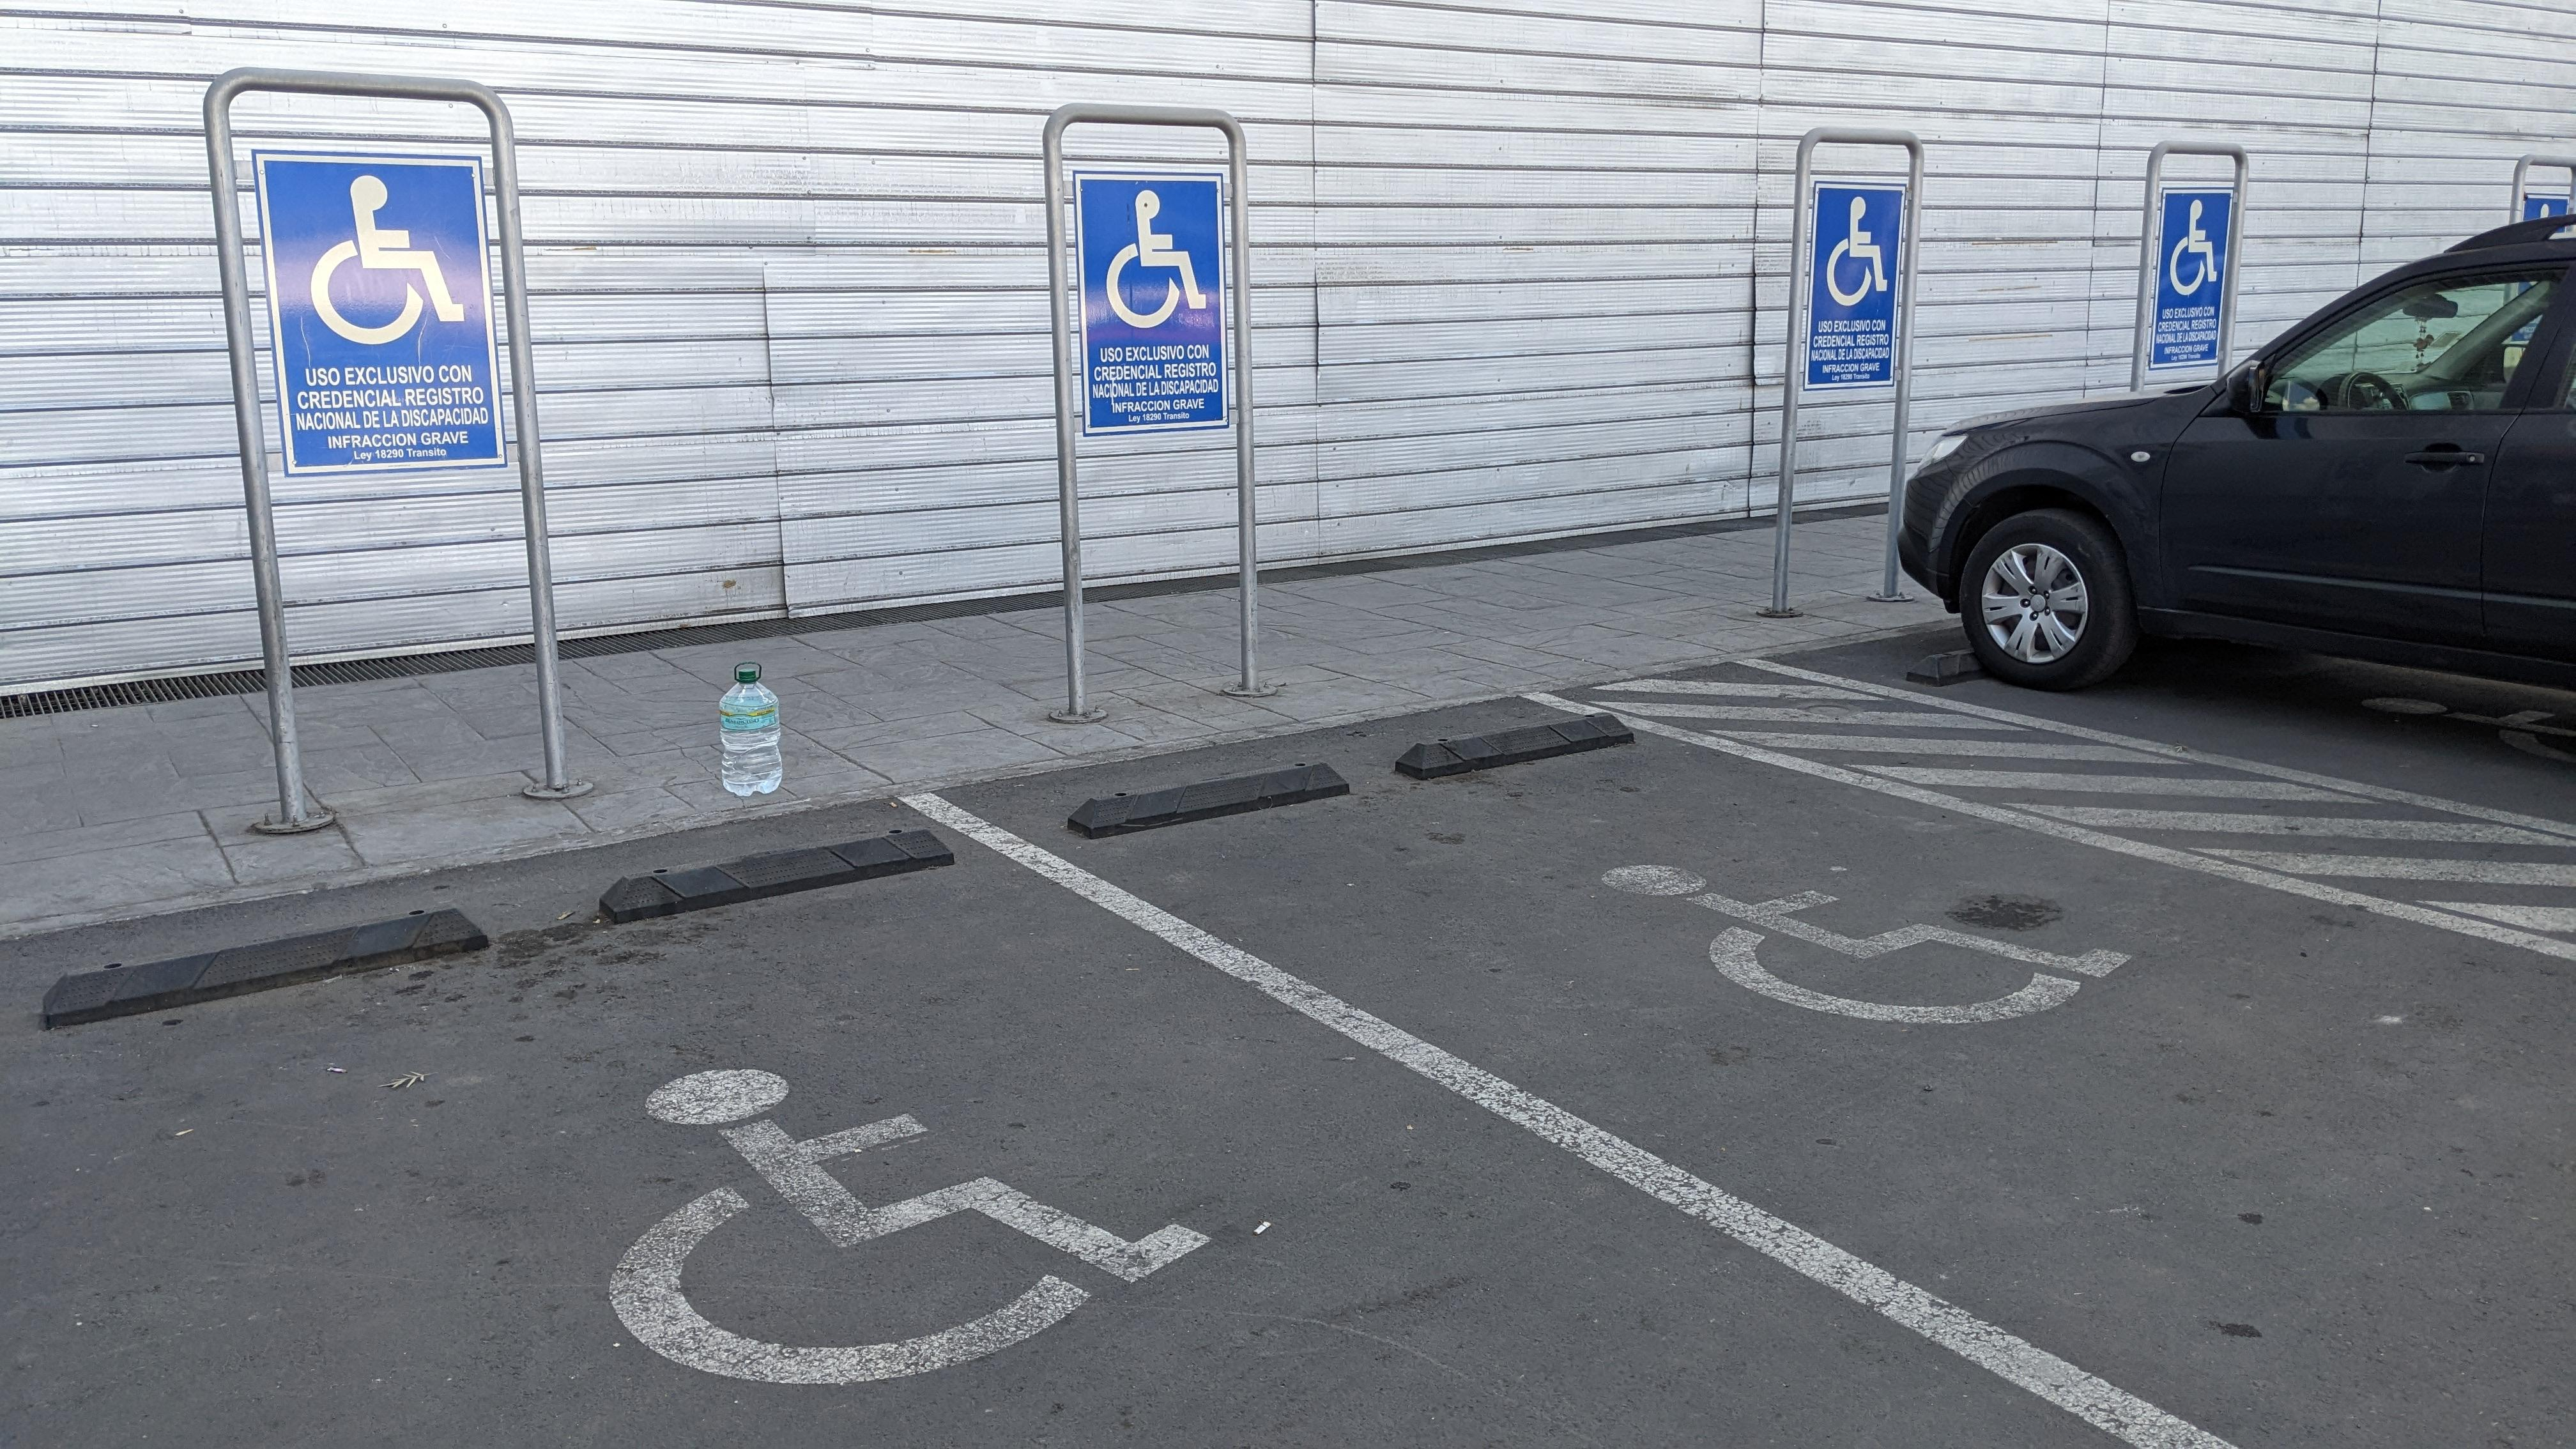handicapped symbol: (605, 1062, 1215, 1387), (1599, 862, 2134, 1026), (310, 173, 467, 349), (1104, 188, 1208, 331), (1824, 195, 1888, 308), (2169, 198, 2219, 297)
